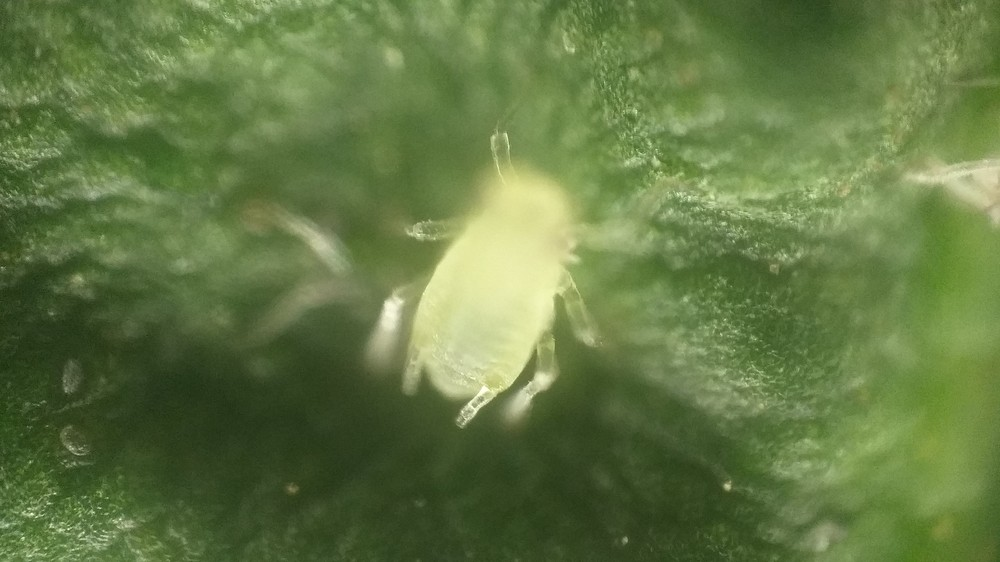Pulgon: (364, 124, 635, 444)
